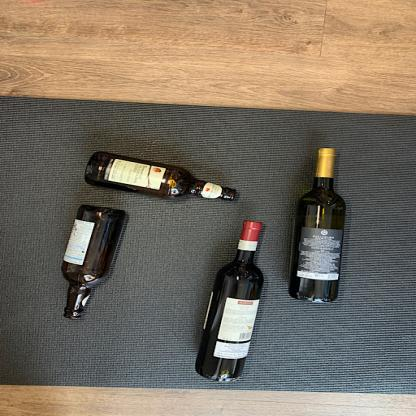trash: (290, 137, 366, 309), (198, 218, 276, 384), (48, 206, 131, 326), (82, 146, 245, 202)
